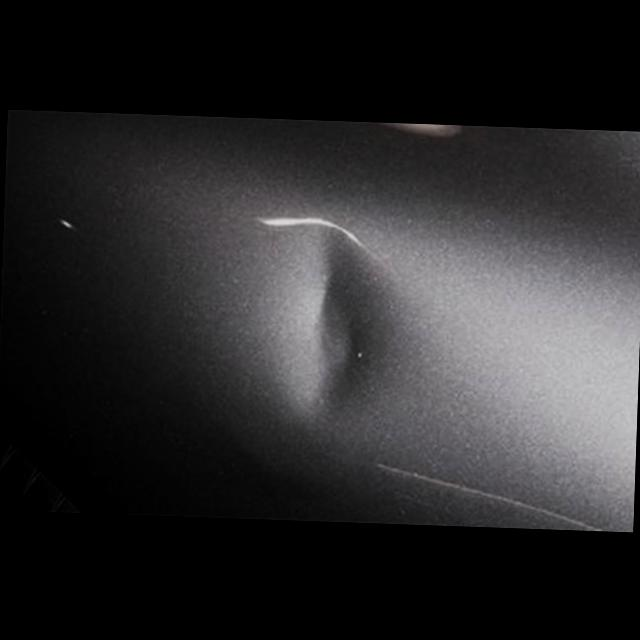dent: (292, 218, 390, 412)
